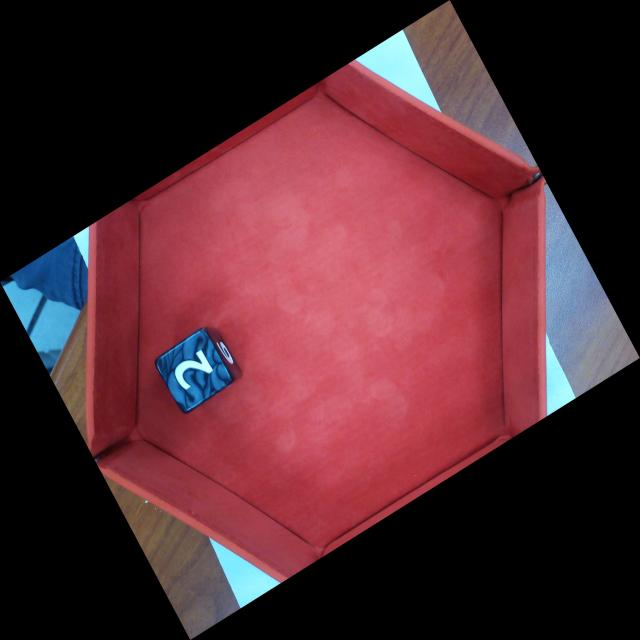dice: (157, 328, 232, 415)
